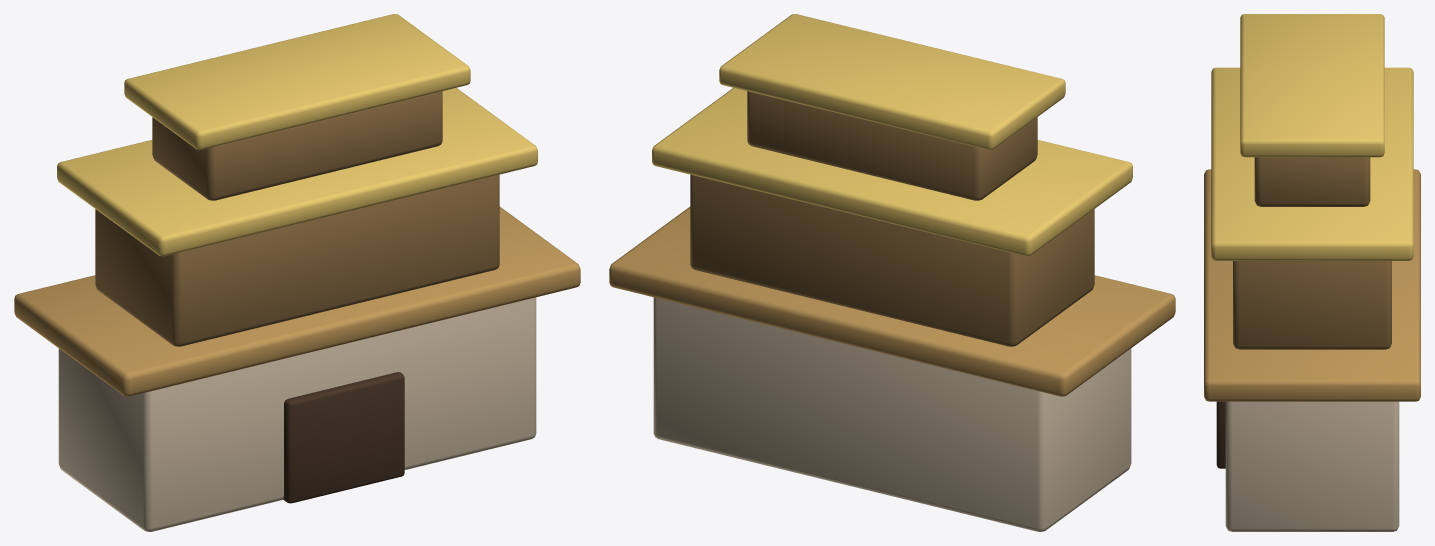
The picture shows the model from 3 angles, left to right: view 1: azimuth 30°, elevation 25°; view 2: azimuth 150°, elevation 25°; view 3: azimuth 270°, elevation 25°; orthographic projection. The views are drawn at different scales.
Parts seen in each view (by area): view 1: landmark_16d9adc0; view 2: landmark_16d9adc0; view 3: landmark_16d9adc0.
Boxes of the visible parts, left/top/right/bottom form: landmark_16d9adc0: left=14, top=14, right=580, bottom=531; landmark_16d9adc0: left=609, top=14, right=1175, bottom=531; landmark_16d9adc0: left=1204, top=14, right=1420, bottom=531.
Size of the model in its own units: 7 by 5.59 by 3.
